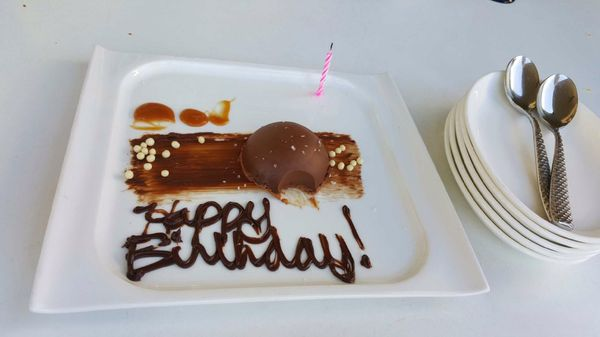sushi: (123, 119, 367, 208)
taco: (503, 55, 580, 231)
